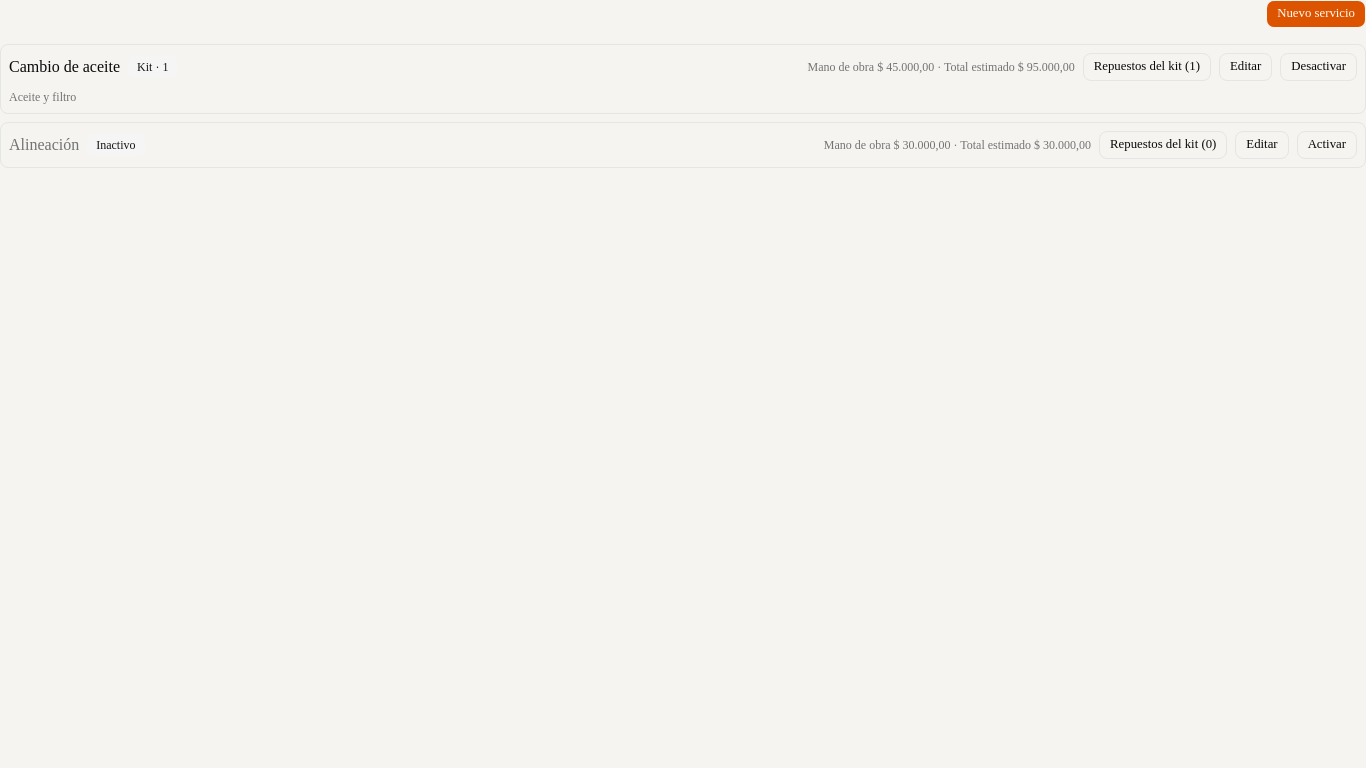
ServiciosSection › abre el diálogo de nuevo servicio
Click the button "Nuevo servicio" at (1316, 14), box x1=1266 y1=0 x2=1365 y2=28
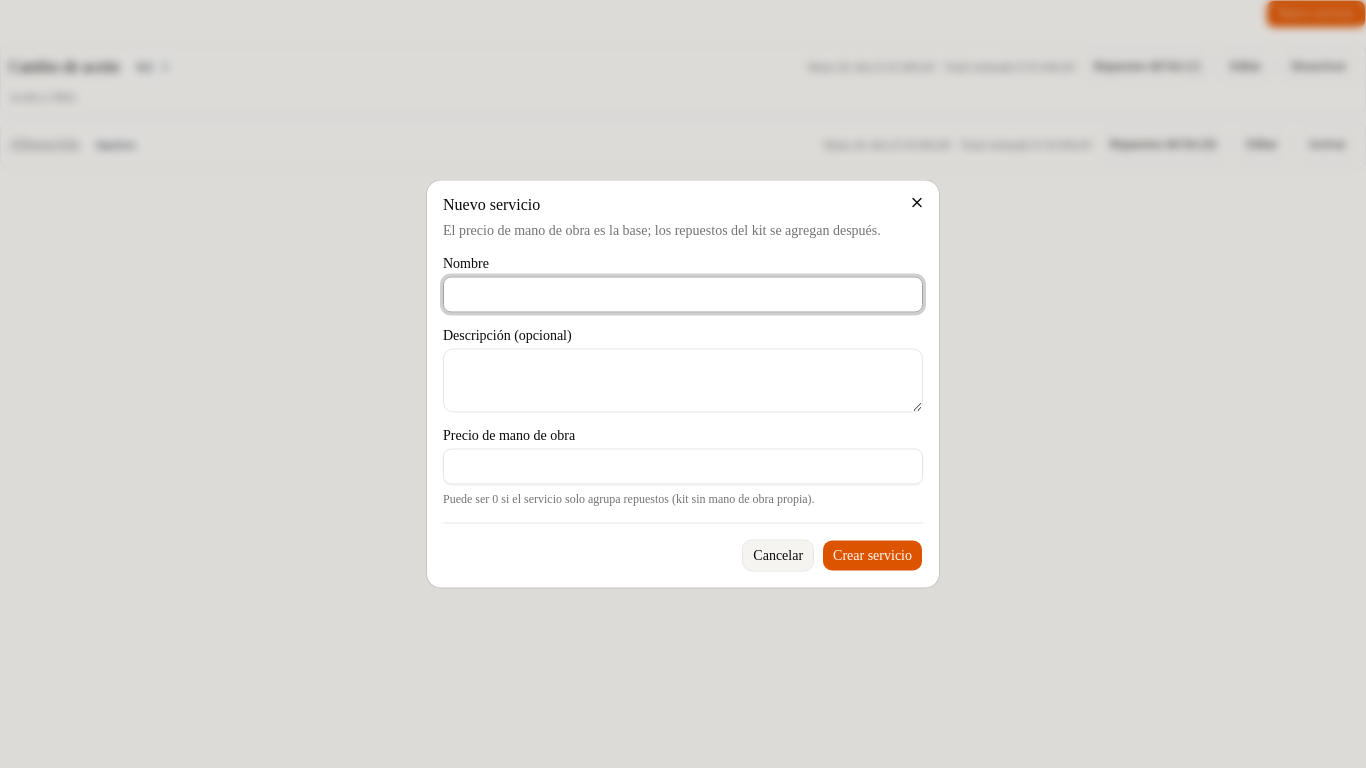
Now the heading "Nuevo servicio" is shown, box x1=443 y1=196 x2=540 y2=212
